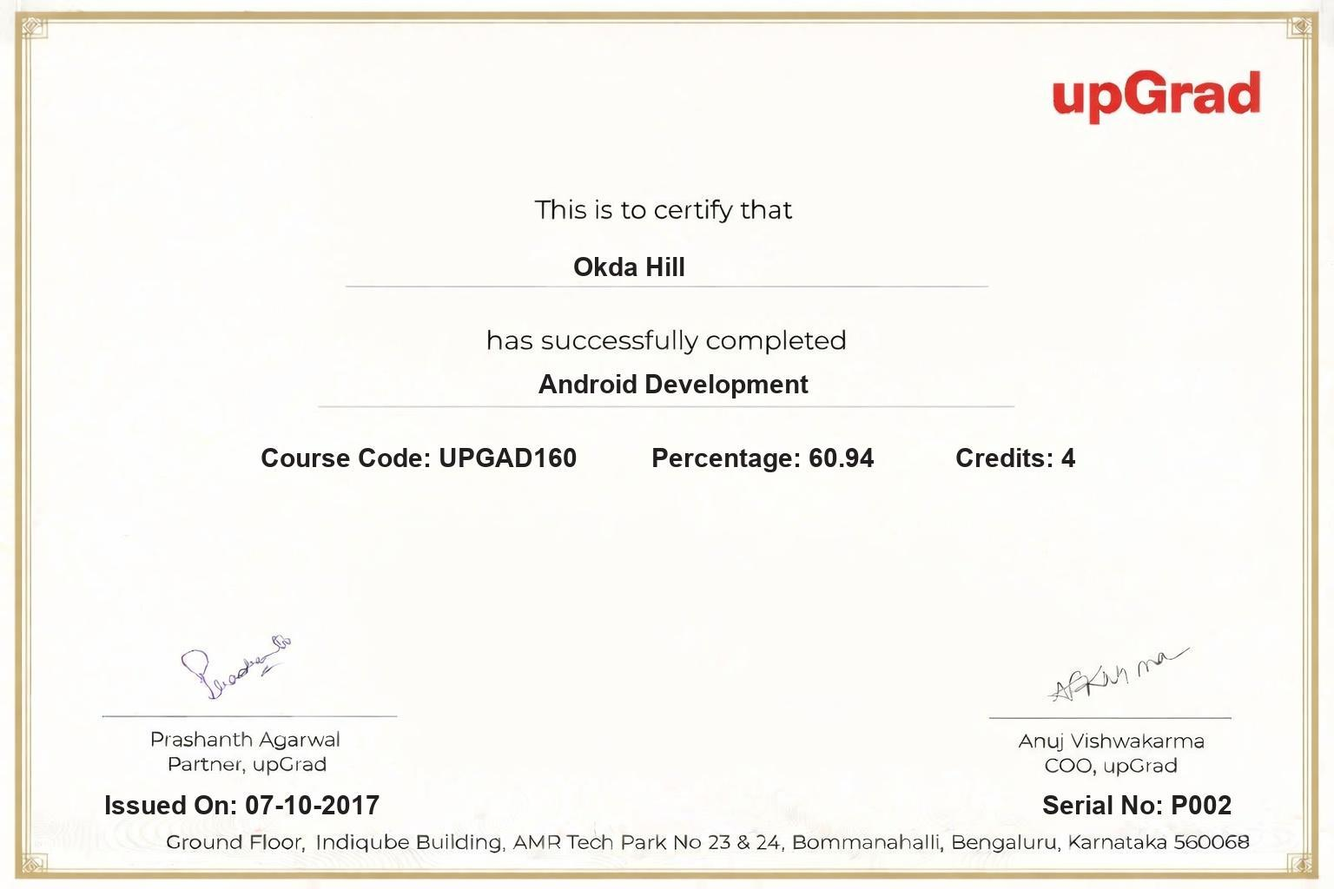Course Code: (431, 436, 593, 482)
Course Name: (534, 362, 826, 409)
Credits: (1057, 436, 1092, 479)
Issued On: (236, 779, 397, 828)
Percentage: (805, 437, 879, 483)
Serial No: (1165, 786, 1242, 826)
Student Name: (567, 246, 690, 288)
